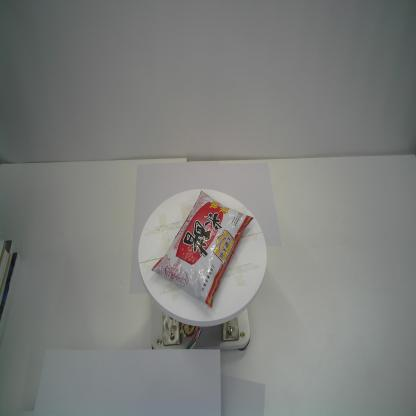Seasoner: (150, 188, 255, 311)
